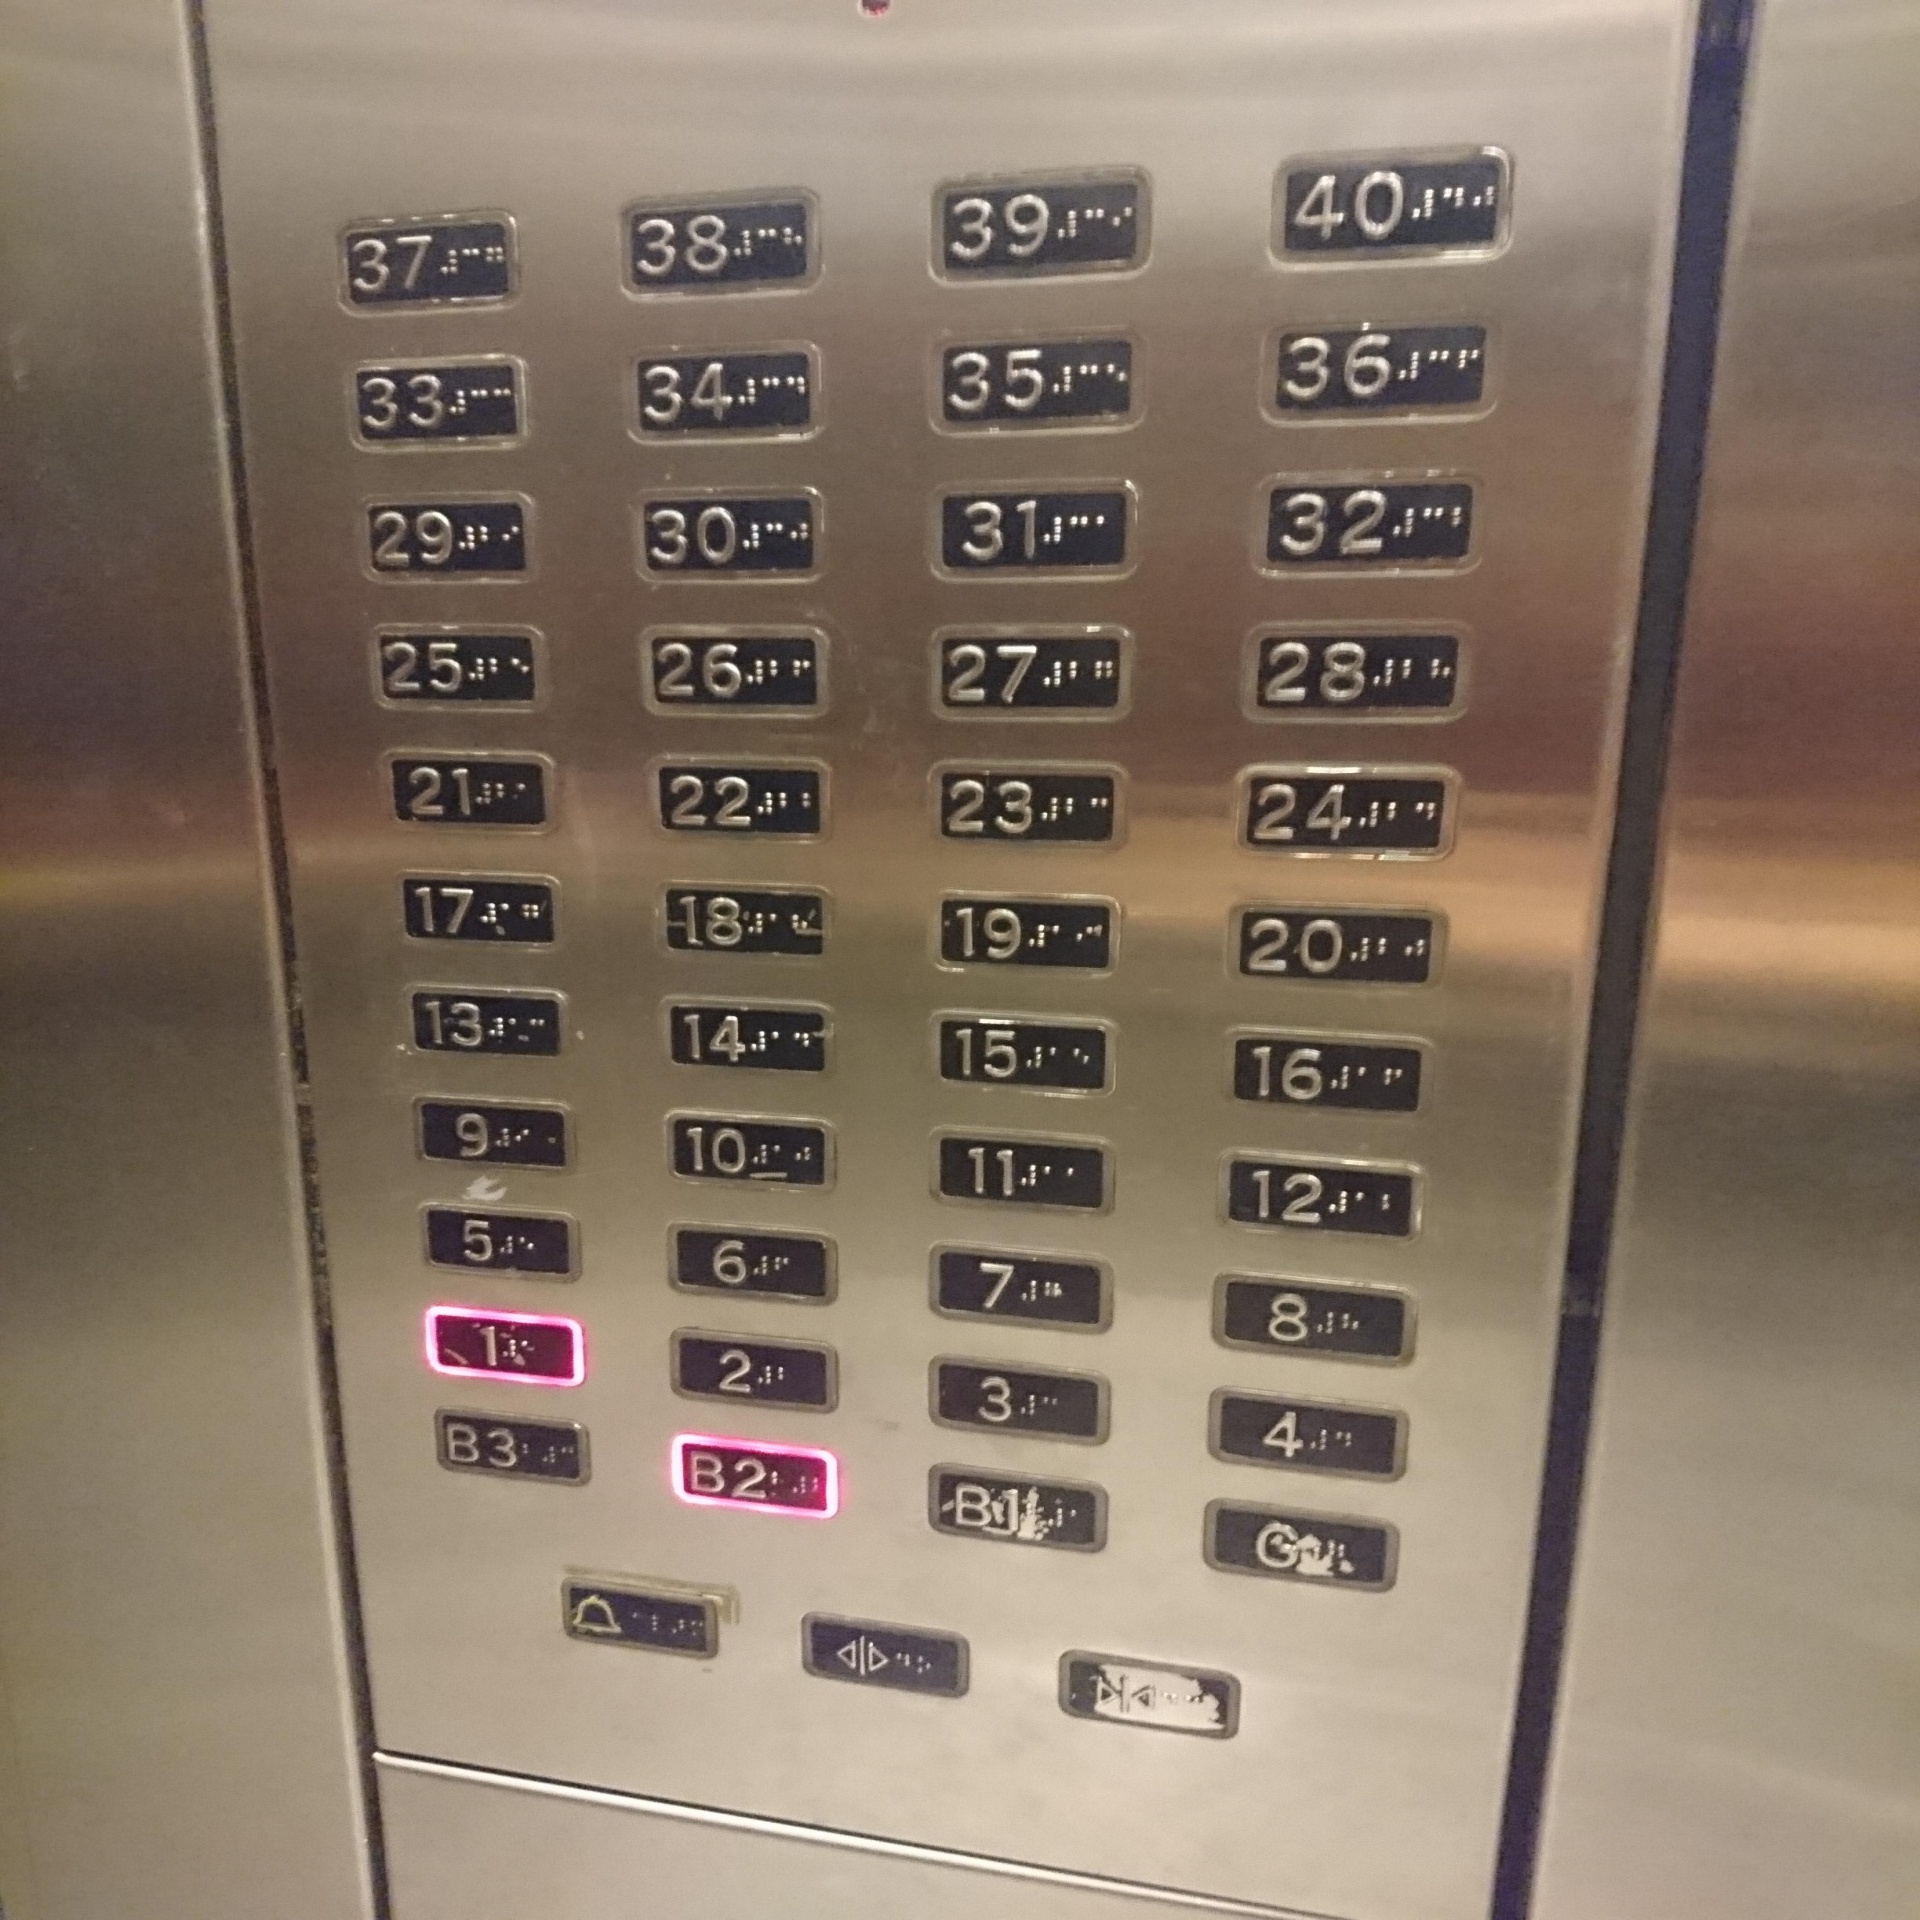1: (424, 1303, 587, 1387)
10: (659, 1108, 839, 1196)
11: (927, 1124, 1118, 1222)
12: (1213, 1148, 1424, 1247)
13: (399, 983, 571, 1067)
14: (658, 993, 839, 1081)
15: (927, 1007, 1115, 1101)
16: (1215, 1027, 1435, 1122)
17: (390, 869, 563, 956)
18: (647, 879, 835, 969)
19: (927, 886, 1125, 979)
2: (668, 1326, 840, 1415)
20: (1225, 900, 1451, 993)
21: (376, 747, 557, 835)
22: (640, 751, 833, 849)
23: (927, 758, 1132, 856)
24: (1233, 763, 1463, 863)
25: (366, 621, 552, 716)
26: (636, 619, 828, 723)
27: (927, 622, 1136, 726)
28: (1234, 622, 1475, 726)
29: (355, 491, 538, 591)
3: (927, 1354, 1109, 1449)
30: (628, 484, 826, 587)
31: (925, 476, 1141, 582)
32: (1247, 468, 1486, 577)
33: (341, 352, 529, 457)
34: (626, 339, 823, 447)
35: (925, 325, 1148, 440)
36: (1261, 313, 1505, 427)
37: (338, 204, 524, 318)
38: (615, 190, 826, 304)
39: (927, 165, 1153, 287)
4: (1208, 1382, 1410, 1487)
40: (1268, 148, 1516, 273)
5: (411, 1196, 584, 1284)
6: (666, 1215, 840, 1310)
7: (927, 1240, 1116, 1338)
8: (1210, 1269, 1415, 1371)
9: (408, 1094, 580, 1180)
B1: (927, 1459, 1111, 1558)
B2: (668, 1431, 839, 1521)
B3: (433, 1405, 596, 1487)
G: (1201, 1496, 1401, 1596)
alarm: (559, 1568, 744, 1658)
close: (1057, 1649, 1243, 1742)
open: (802, 1607, 971, 1702)
